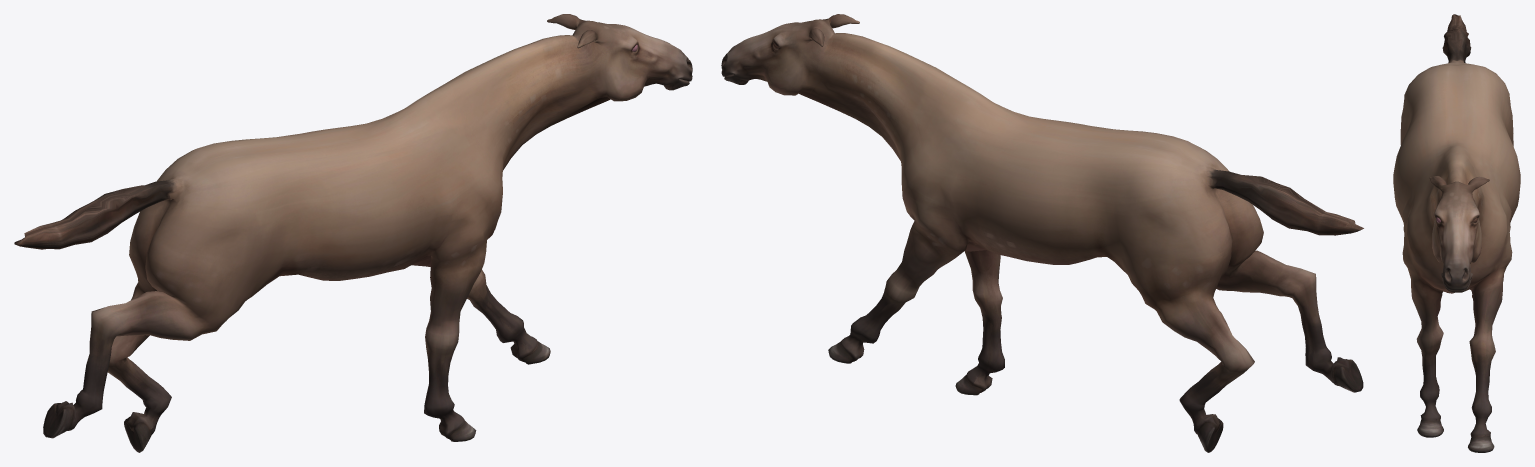
Rendered from animated-horse-1k.glb.
The picture shows the model from 3 angles, left to right: view 1: azimuth 30°, elevation 25°; view 2: azimuth 150°, elevation 25°; view 3: azimuth 270°, elevation 25°; orthographic projection. The views are drawn at different scales.
Parts seen in each view (by area): view 1: polySurface10Shape; view 2: polySurface10Shape; view 3: polySurface10Shape.
Part boxes in pixels (bbox=[...]): polySurface10Shape: bbox=[14, 14, 692, 452]; polySurface10Shape: bbox=[721, 14, 1363, 452]; polySurface10Shape: bbox=[1393, 14, 1520, 452].
Size of what is drawn, in the model's own units: 33.1 by 17.21 by 6.42.
1 material, 1 textured.
